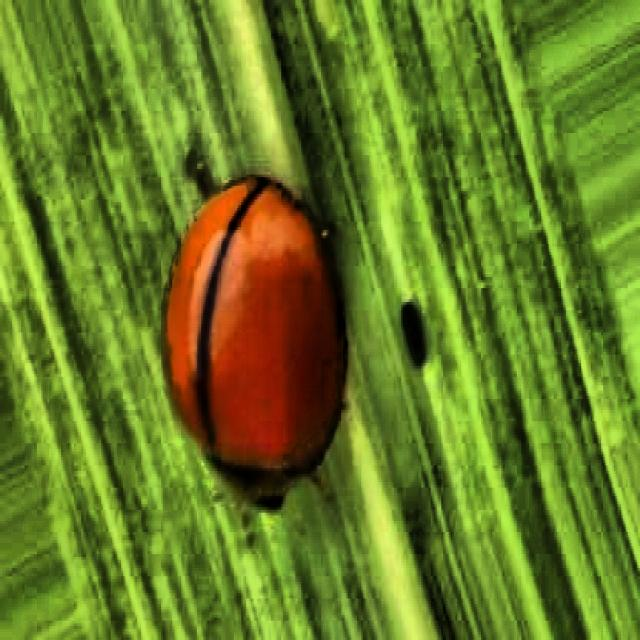Ladybug: (92, 73, 407, 581)
